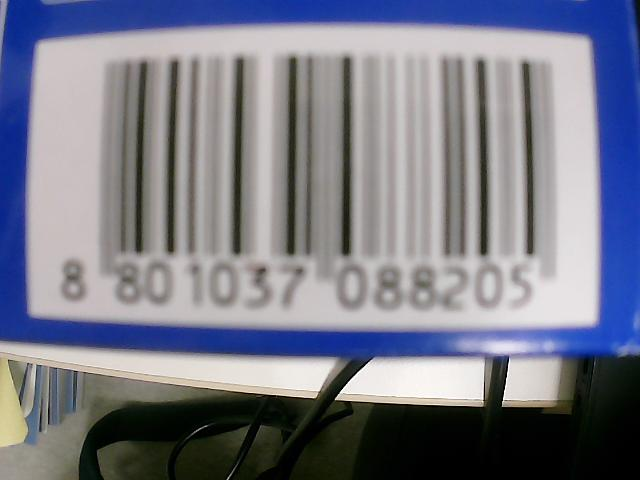kuandku-2000-2024-11-08: (47, 61, 593, 314)
